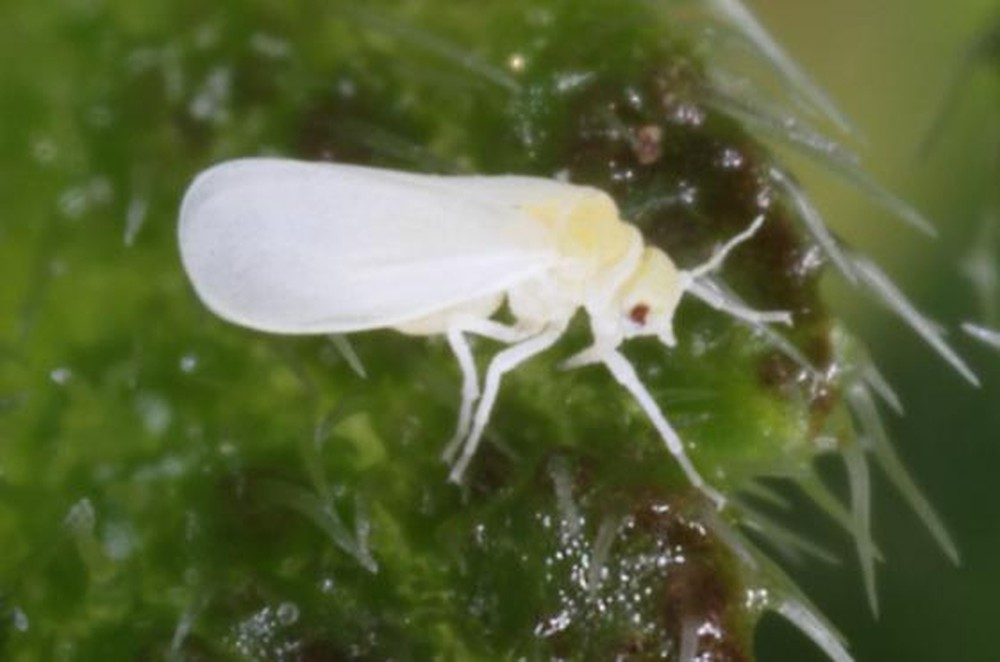Mosca Blanca: (159, 127, 783, 503)
